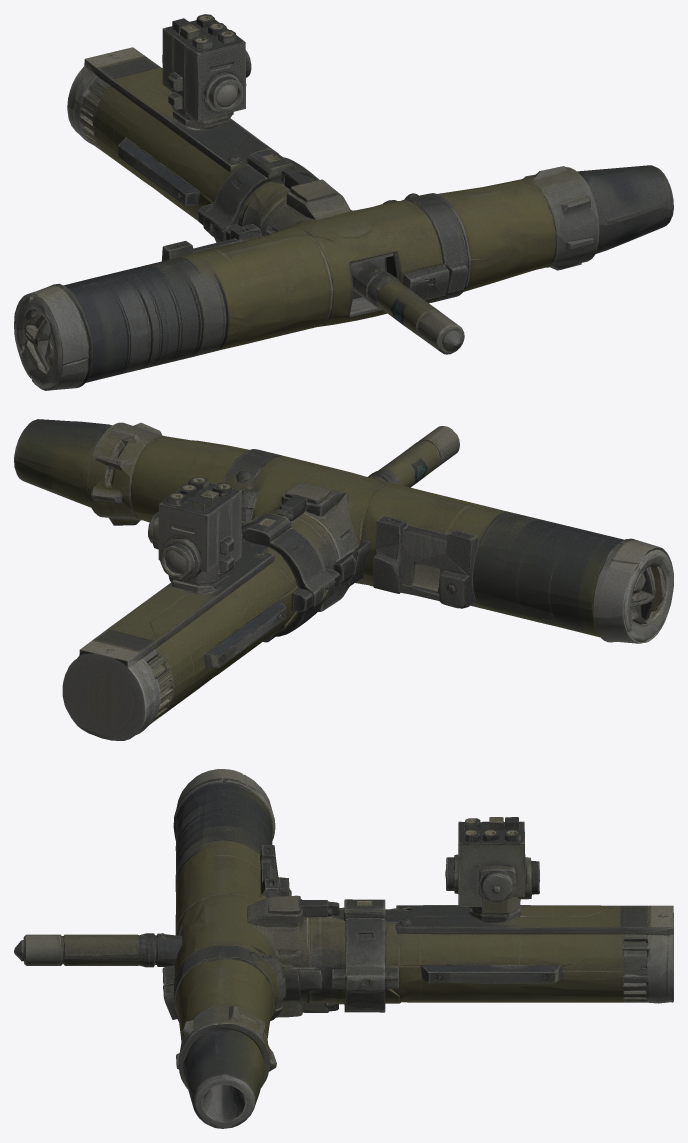
File: rocket_launcher.glb
3 views of the same model, one above another, from view 1: azimuth 30°, elevation 25°; view 2: azimuth 150°, elevation 25°; view 3: azimuth 270°, elevation 25° (orthographic). The views are drawn at different scales.
Visible parts, largest first — view 1: mesh_node; view 2: mesh_node; view 3: mesh_node.
Boxes of the visible parts, x1,y1,x2,y2 form: mesh_node: (14, 14, 673, 390); mesh_node: (14, 419, 673, 740); mesh_node: (14, 769, 673, 1128).
Size of the model in its own units: 1.9 by 0.5735 by 1.84.
Materials: 1 (1 with a texture image).
